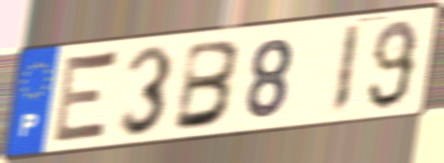3: (118, 43, 176, 139)
8: (245, 36, 294, 120)
9: (365, 17, 419, 113)
B: (170, 37, 244, 135)
E: (49, 48, 122, 148)
I: (328, 21, 363, 117)
